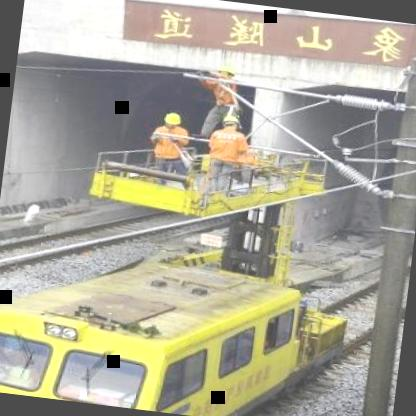helmet: (216, 110, 245, 135), (158, 106, 186, 130), (212, 62, 240, 83)
